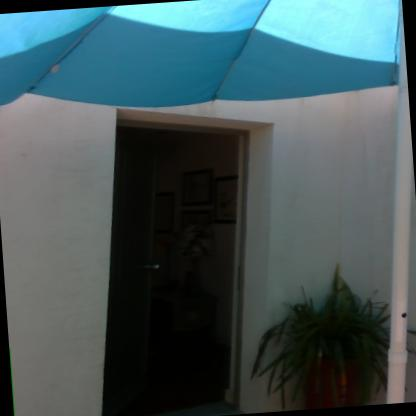open: (84, 96, 294, 415)
